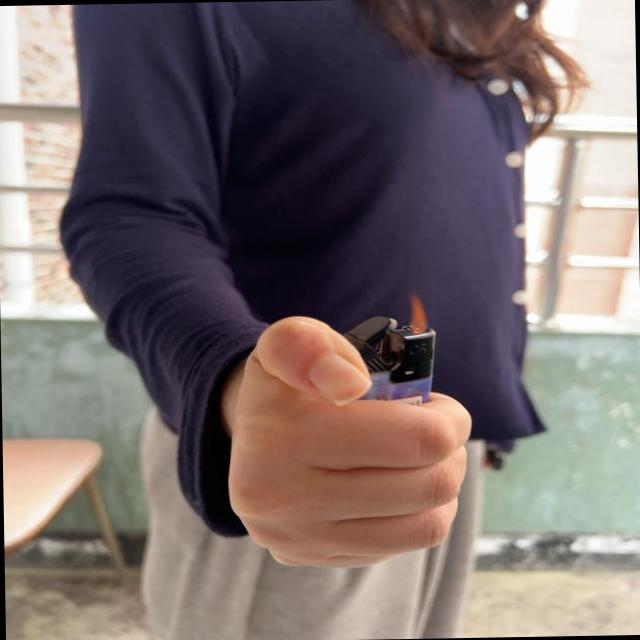Fire: (406, 288, 432, 338)
